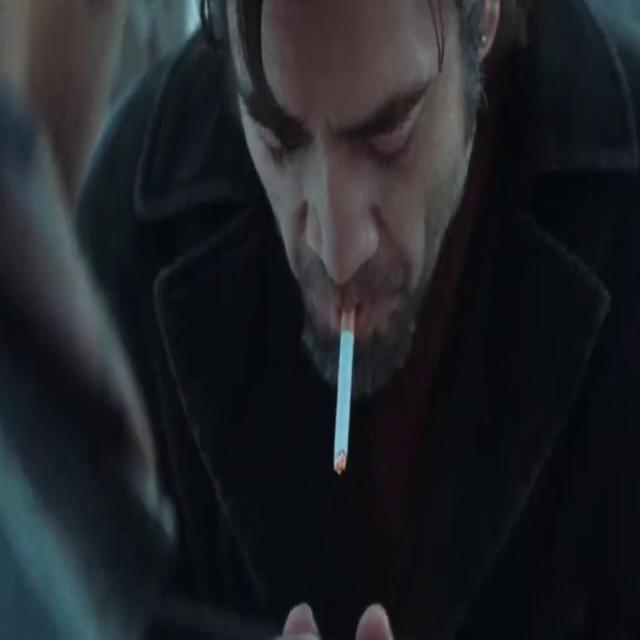Smooking: (328, 312, 356, 490)
